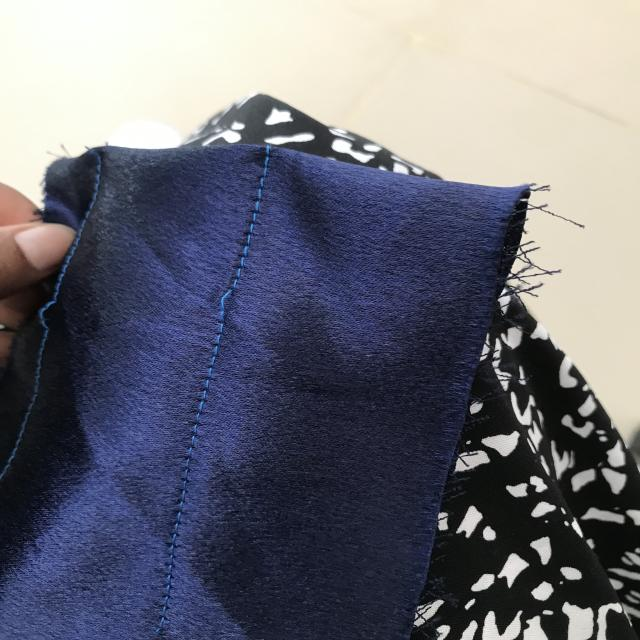good: (176, 386, 212, 494)
skip: (197, 274, 249, 328), (33, 292, 74, 340)
